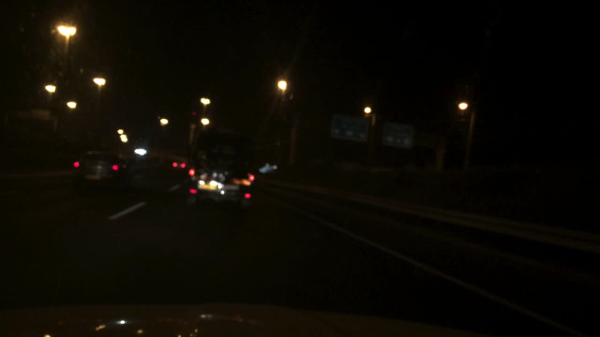car: (73, 150, 135, 194), (170, 158, 188, 171)
traffic sign: (330, 113, 366, 141), (381, 122, 413, 148)
truck: (184, 128, 257, 212)
